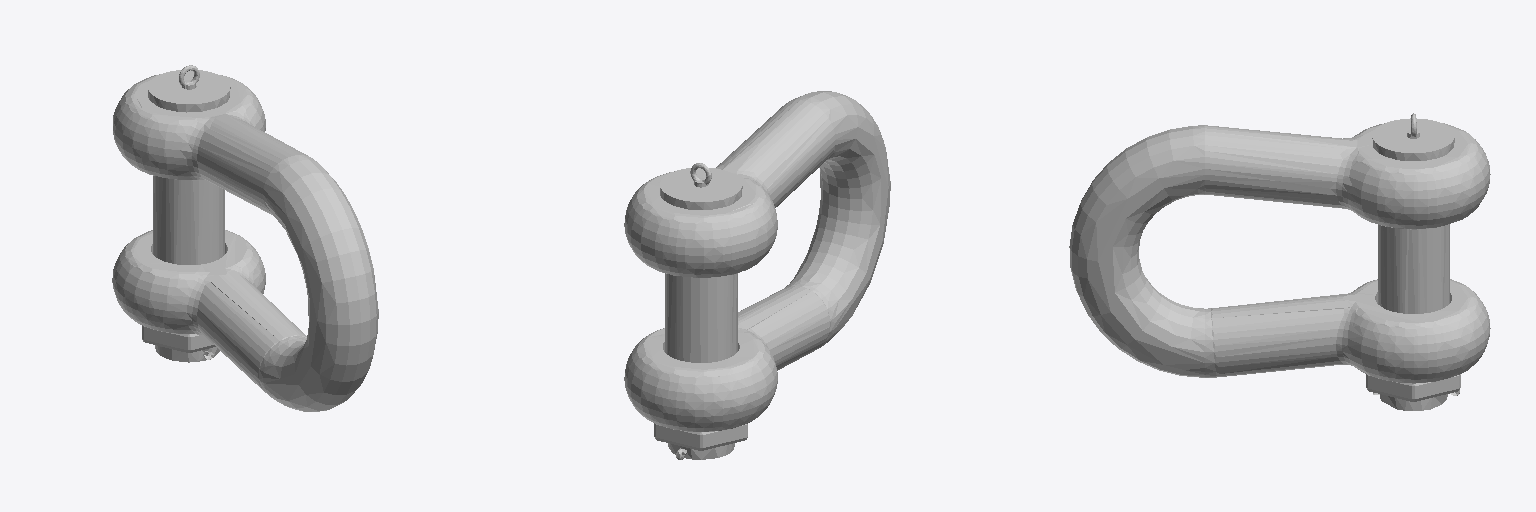
File: shackle_gp800.obj
3 renders of one model, left to right at view 1: azimuth 30°, elevation 25°; view 2: azimuth 150°, elevation 25°; view 3: azimuth 270°, elevation 25°, orthographic.
Bounding box in the file's own units: 0.464 × 0.9407 × 1.27.